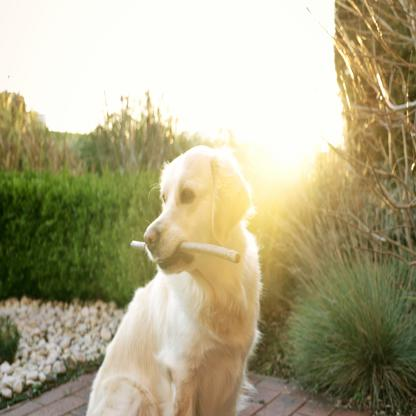dog: (87, 147, 261, 416)
